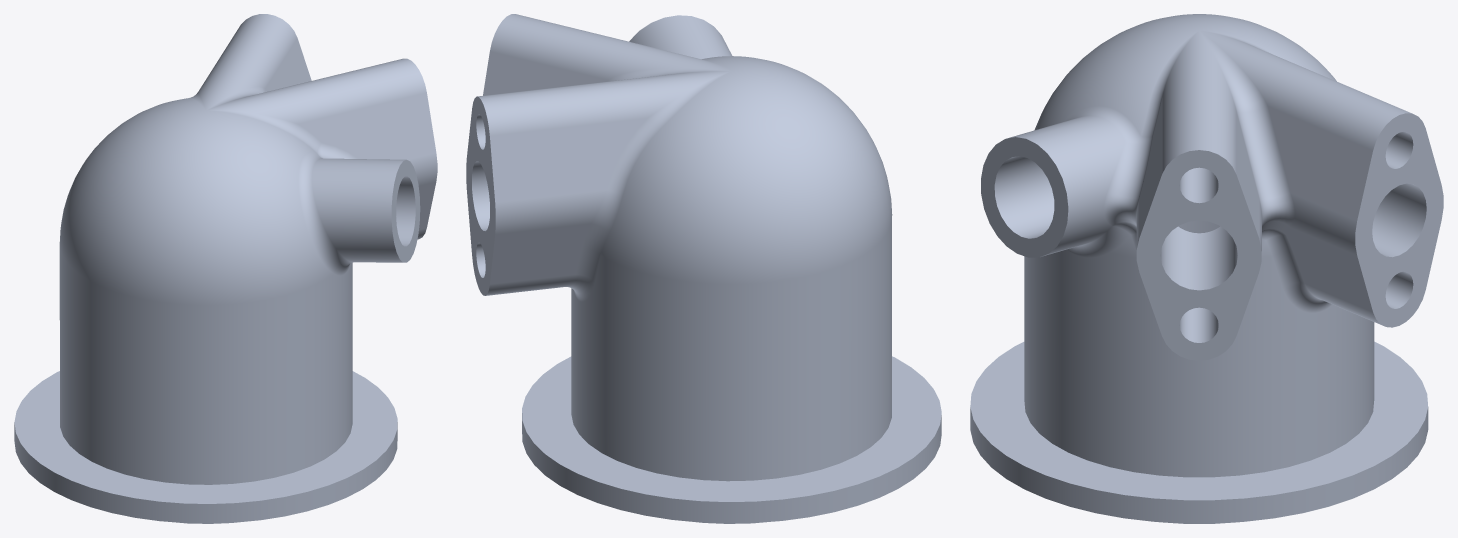
Rendered from solidworks-model-mania1.glb.
The picture shows the model from 3 angles, left to right: view 1: azimuth 30°, elevation 25°; view 2: azimuth 150°, elevation 25°; view 3: azimuth 270°, elevation 25°; orthographic projection. The views are drawn at different scales.
Parts seen in each view (by area): view 1: Model_Mania_2000; view 2: Model_Mania_2000; view 3: Model_Mania_2000.
Boxes of the visible parts, bbox=[...] form: Model_Mania_2000: bbox=[14, 14, 437, 523]; Model_Mania_2000: bbox=[466, 14, 941, 523]; Model_Mania_2000: bbox=[970, 14, 1443, 523].
Bounding box in the file's own units: 0.1264 × 0.1143 × 0.1168.
